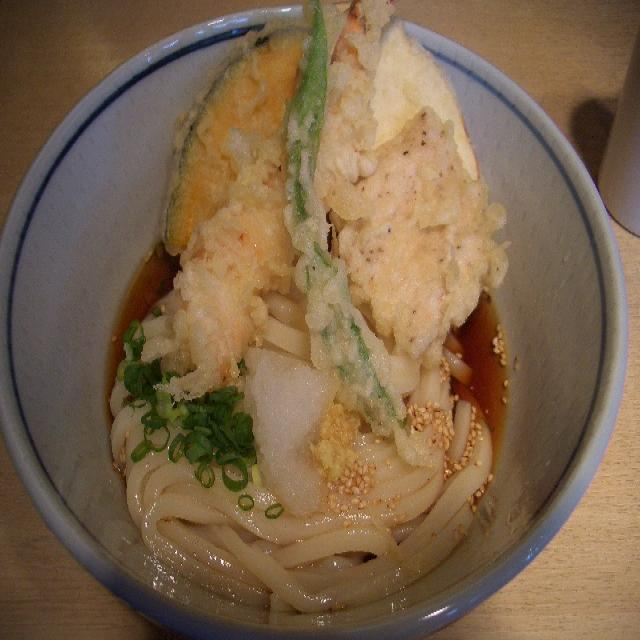面条主食: (108, 0, 510, 631)
